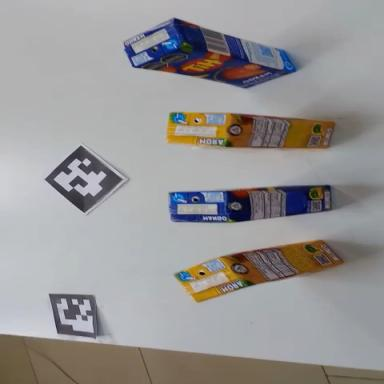HIT-MANGO: (119, 6, 300, 111), (168, 184, 332, 225)
HIT-MORA: (173, 228, 344, 306), (167, 112, 335, 150)
cara_F: (134, 35, 294, 106)
